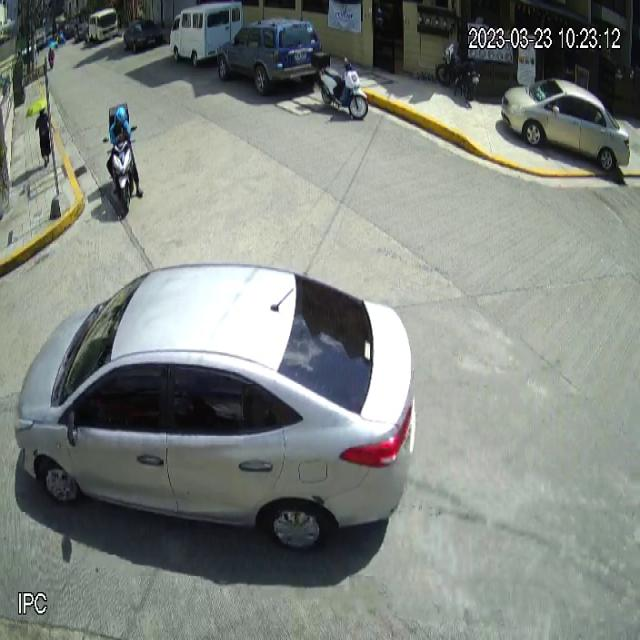Car: (14, 261, 417, 554), (501, 79, 631, 172), (216, 15, 323, 94)
Motorcycle: (312, 51, 368, 120)
Van: (169, 0, 243, 67)
